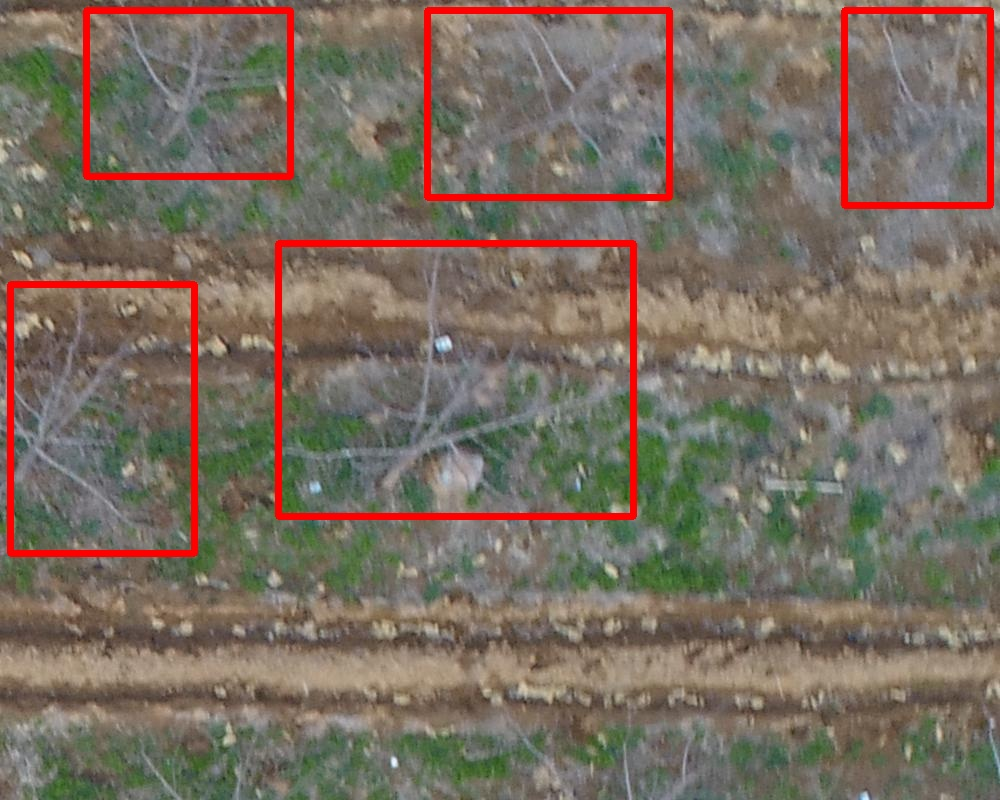apple: (278, 243, 633, 516), (10, 284, 194, 553), (427, 10, 669, 197), (86, 10, 290, 176), (844, 10, 990, 205)
